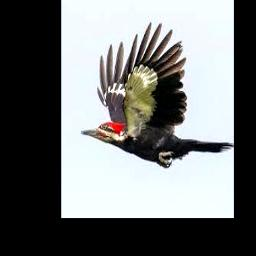Woodpecker: (79, 22, 233, 169)
